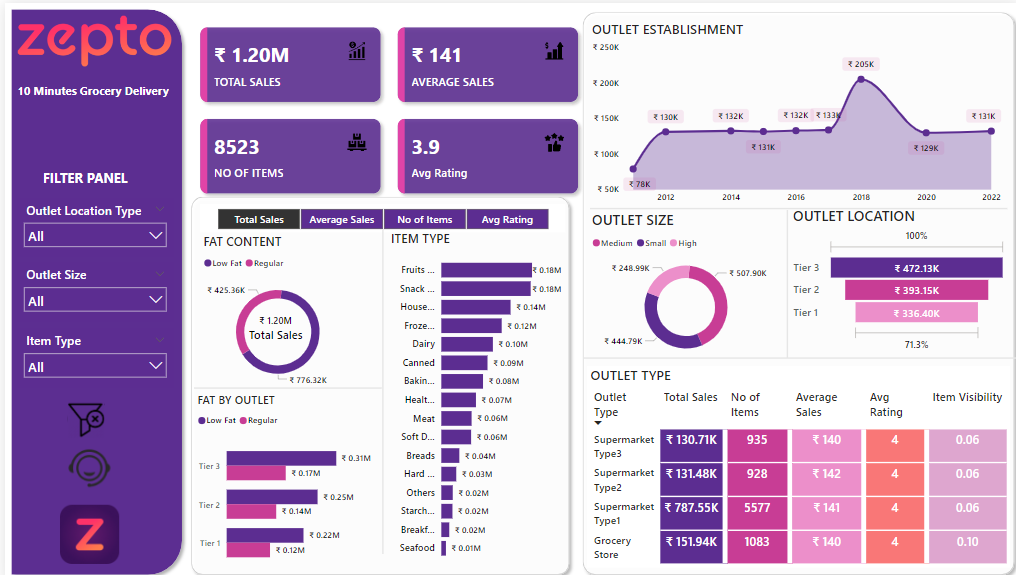

This screenshot's page, from the dashboard's own definition file:
{"tool":"powerbi","page":{"name":"Page 1","canvas":[1440,820],"ordinal":0},"visuals":[{"type":"shape","box":[0,0,260,820],"z":0},{"type":"image","box":[12,0,228,108],"z":1000},{"type":"textbox","box":[12,108,244,52],"z":2000},{"type":"cardVisual","fields":{"Data":["Zepto Grocery Data.Total Sales","Zepto Grocery Data.Average Sales","Zepto Grocery Data.No of Items","Zepto Grocery Data.Avg Rating"]},"box":[260,16,570,270],"z":3000},{"type":"shape","box":[256,266,554,554],"z":4000},{"type":"donutChart","title":"FAT CONTENT","fields":{"Y":["Zepto Grocery Data.Total Sales"],"Category":["Zepto Grocery Data.Item Fat Content"]},"box":[276,326,220,230],"z":5000},{"type":"slicer","fields":{"Values":["Metrices.Metrices"]},"box":[276,286,518,40],"z":6000},{"type":"cardVisual","fields":{"Data":["Zepto Grocery Data.Total Sales"]},"box":[320,422,130,78],"z":7000},{"type":"clusteredBarChart","title":"FAT BY OUTLET","fields":{"Y":["Zepto Grocery Data.Total Sales"],"Category":["Zepto Grocery Data.Outlet Location Type"],"Series":["Zepto Grocery Data.Item Fat Content"]},"box":[268,552,256,264],"z":8000},{"type":"barChart","title":"ITEM TYPE","fields":{"Y":["Zepto Grocery Data.Total Sales"],"Category":["Zepto Grocery Data.Item Type"]},"box":[542,322,252,478],"z":9000},{"type":"shape","box":[268,536,266,20],"z":10000},{"type":"shape","box":[516,322,38,460],"z":11000},{"type":"shape","box":[810,4,630,816],"z":12000},{"type":"lineChart","title":"OUTLET ESTABLISHMENT","fields":{"Category":["Zepto Grocery Data.Outlet Establishment Year"],"Y":["Zepto Grocery Data.Total Sales"]},"box":[828,24,590,270],"z":13000},{"type":"shape","box":[830,276,592,30],"z":14000},{"type":"donutChart","title":"OUTLET SIZE","fields":{"Y":["Zepto Grocery Data.Total Sales"],"Category":["Zepto Grocery Data.Outlet Size"]},"box":[828,294,276,220],"z":15000},{"type":"shape","box":[1096,294,28,210],"z":16000},{"type":"funnel","title":"OUTLET LOCATION","fields":{"Category":["Zepto Grocery Data.Outlet Location Type"],"Y":["Zepto Grocery Data.Total Sales"]},"box":[1112,288,312,212],"z":17000},{"type":"pivotTable","title":"OUTLET TYPE","fields":{"Rows":["Zepto Grocery Data.Outlet Type"],"Values":["Zepto Grocery Data.Total Sales","Zepto Grocery Data.No of Items","Zepto Grocery Data.Average Sales","Zepto Grocery Data.Avg Rating","Avg(Zepto Grocery Data.Item Visibility)"]},"box":[826,514,600,286],"z":18000},{"type":"shape","box":[822,494,618,20],"z":19000},{"type":"slicer","fields":{"Values":["Zepto Grocery Data.Outlet Location Type"]},"box":[18,276,222,84],"z":19001},{"type":"slicer","fields":{"Values":["Zepto Grocery Data.Outlet Size"]},"box":[18,368,222,84],"z":19002},{"type":"slicer","fields":{"Values":["Zepto Grocery Data.Item Type"]},"box":[18,462,222,84],"z":19003},{"type":"textbox","box":[48,230,142,56],"z":19004},{"type":"actionButton","box":[86,562,66,60],"z":19005},{"type":"actionButton","box":[78,612,82,94],"z":19006},{"type":"image","box":[0,706,240,94],"z":19007}]}

Visuals, with their boxes in screenshot pixels (x1, y1, x2, y2), scaled from the page's 1440x820 canvas onto the 1016x575 screenshot:
shape: 0/0/183/574
image: 8/0/169/76
textbox: 8/76/181/112
cardVisual - Zepto Grocery Data.Total Sales x Zepto Grocery Data.Average Sales: 183/11/586/201
shape: 181/187/572/574
"FAT CONTENT" donutChart: 195/229/350/390
slicer - Metrices.Metrices: 195/201/560/229
cardVisual - Zepto Grocery Data.Total Sales: 226/296/318/351
"FAT BY OUTLET" clusteredBarChart: 189/387/370/572
"ITEM TYPE" barChart: 382/226/560/561
shape: 189/376/377/390
shape: 364/226/391/548
shape: 572/3/1015/574
"OUTLET ESTABLISHMENT" lineChart: 584/17/1000/206
shape: 586/194/1003/215
"OUTLET SIZE" donutChart: 584/206/779/360
shape: 773/206/793/353
"OUTLET LOCATION" funnel: 785/202/1005/351
"OUTLET TYPE" pivotTable: 583/360/1006/561
shape: 580/346/1015/360
slicer - Zepto Grocery Data.Outlet Location Type: 13/194/169/252
slicer - Zepto Grocery Data.Outlet Size: 13/258/169/317
slicer - Zepto Grocery Data.Item Type: 13/324/169/383
textbox: 34/161/134/201
actionButton: 61/394/107/436
actionButton: 55/429/113/495
image: 0/495/169/561
